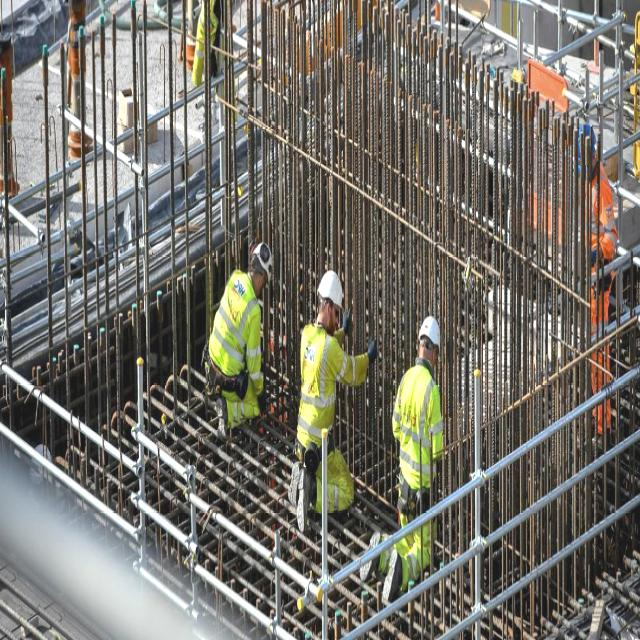head_helmet: (318, 266, 345, 308), (417, 314, 442, 353), (251, 241, 275, 281)
person: (359, 315, 449, 612), (287, 268, 378, 524), (200, 241, 272, 443)
shoes: (382, 548, 406, 608), (296, 466, 313, 533), (286, 459, 303, 512)
vest: (394, 363, 443, 487), (296, 326, 342, 443), (209, 269, 260, 370)
